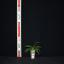leaf: (33, 42, 41, 48), (33, 48, 41, 54), (24, 48, 33, 52), (24, 45, 33, 49), (25, 49, 32, 53), (34, 50, 39, 55), (33, 46, 41, 49)
